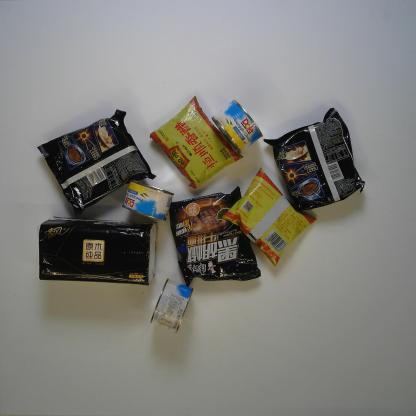Canned Food: (210, 98, 263, 155), (150, 277, 194, 334), (121, 179, 175, 221)
Instant Noodles: (36, 107, 157, 216), (262, 106, 366, 212), (168, 186, 262, 288)
Seasoner: (222, 167, 317, 267), (149, 96, 244, 189)
Tissue: (38, 216, 158, 286)
